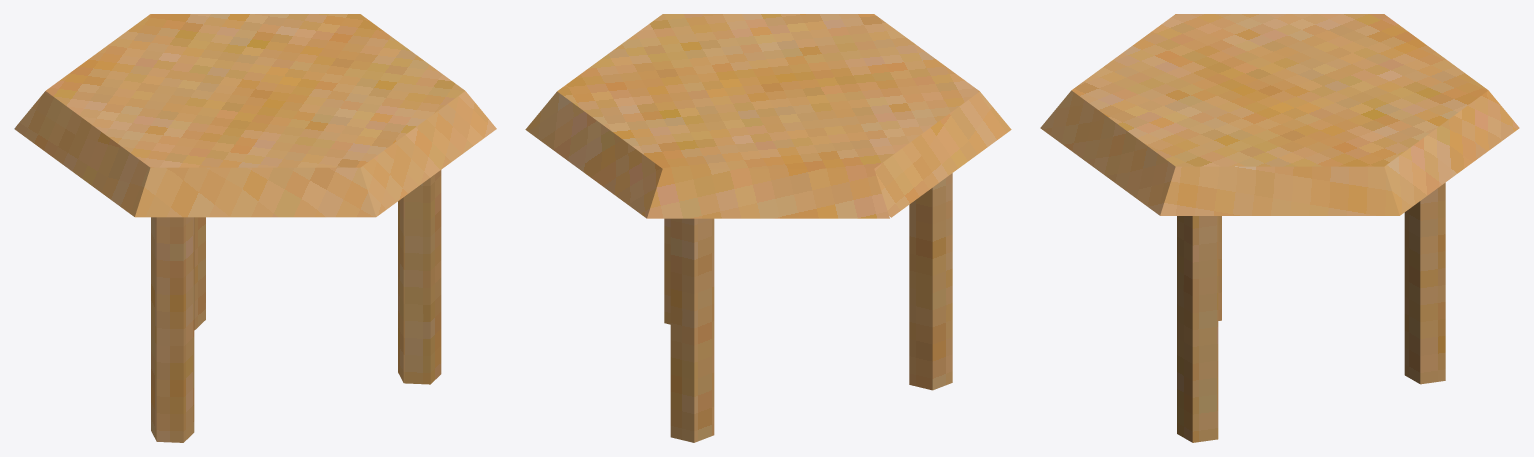
The model's file is table1.fbx.
The picture shows the model from 3 angles, left to right: view 1: azimuth 30°, elevation 25°; view 2: azimuth 150°, elevation 25°; view 3: azimuth 270°, elevation 25°; orthographic projection.
Visible parts, largest first — view 1: Cylinder; view 2: Cylinder; view 3: Cylinder.
Boxes of the visible parts, left/top/right/bottom form: Cylinder: left=14, top=14, right=496, bottom=442; Cylinder: left=525, top=14, right=1011, bottom=442; Cylinder: left=1040, top=14, right=1519, bottom=442.
Bounding box in the file's own units: 199 × 150 × 230.
